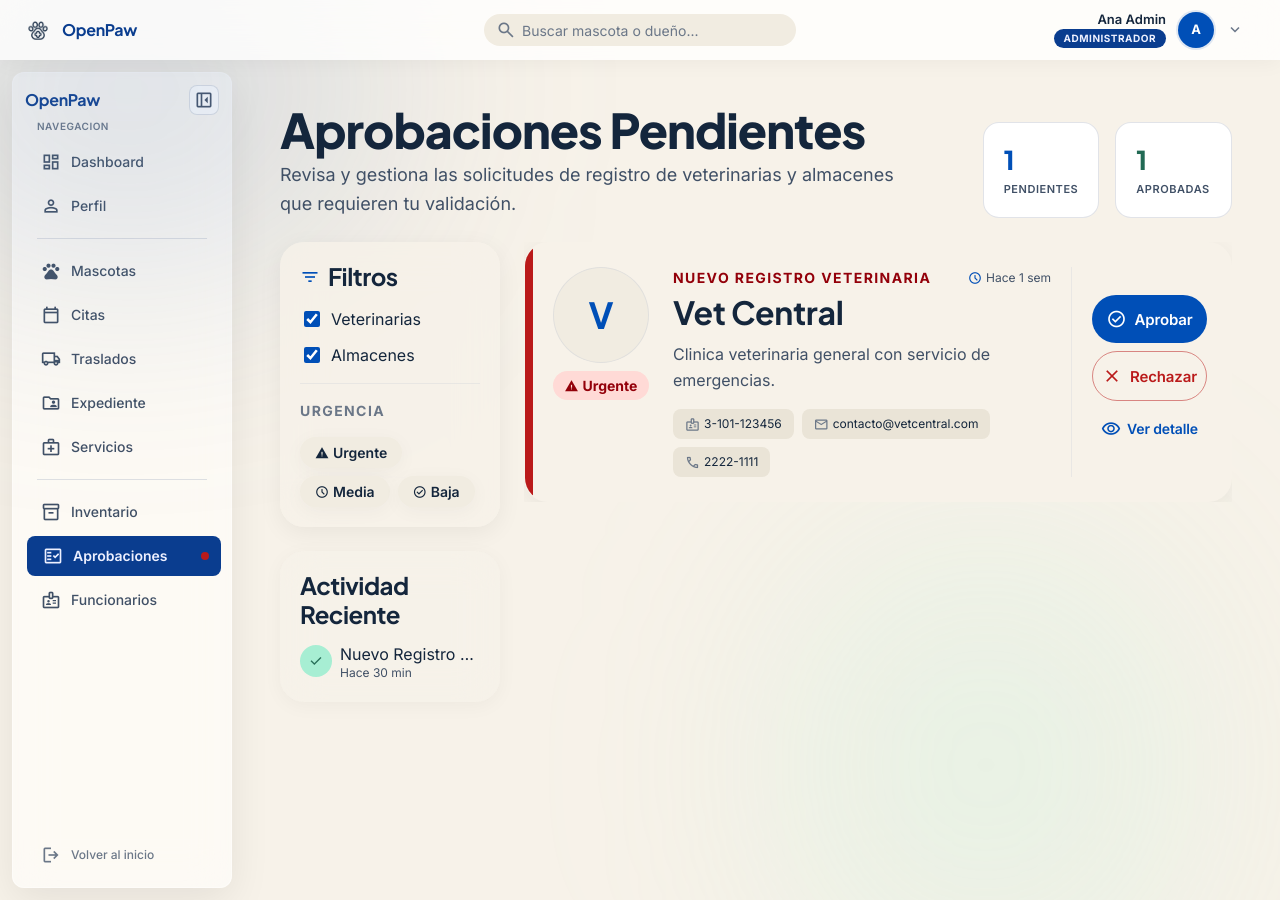
Test case: ApprovalsListPage - feed de cards con urgencia y animacion (T33) › la accion local gana al parseo UTC de fechas recientes del backend (H1)
Check: the heading "Vet Central" is shown, box [673,292,844,332]
Click the button "Aprobar" at [1150, 319], box [1092,295,1207,343]
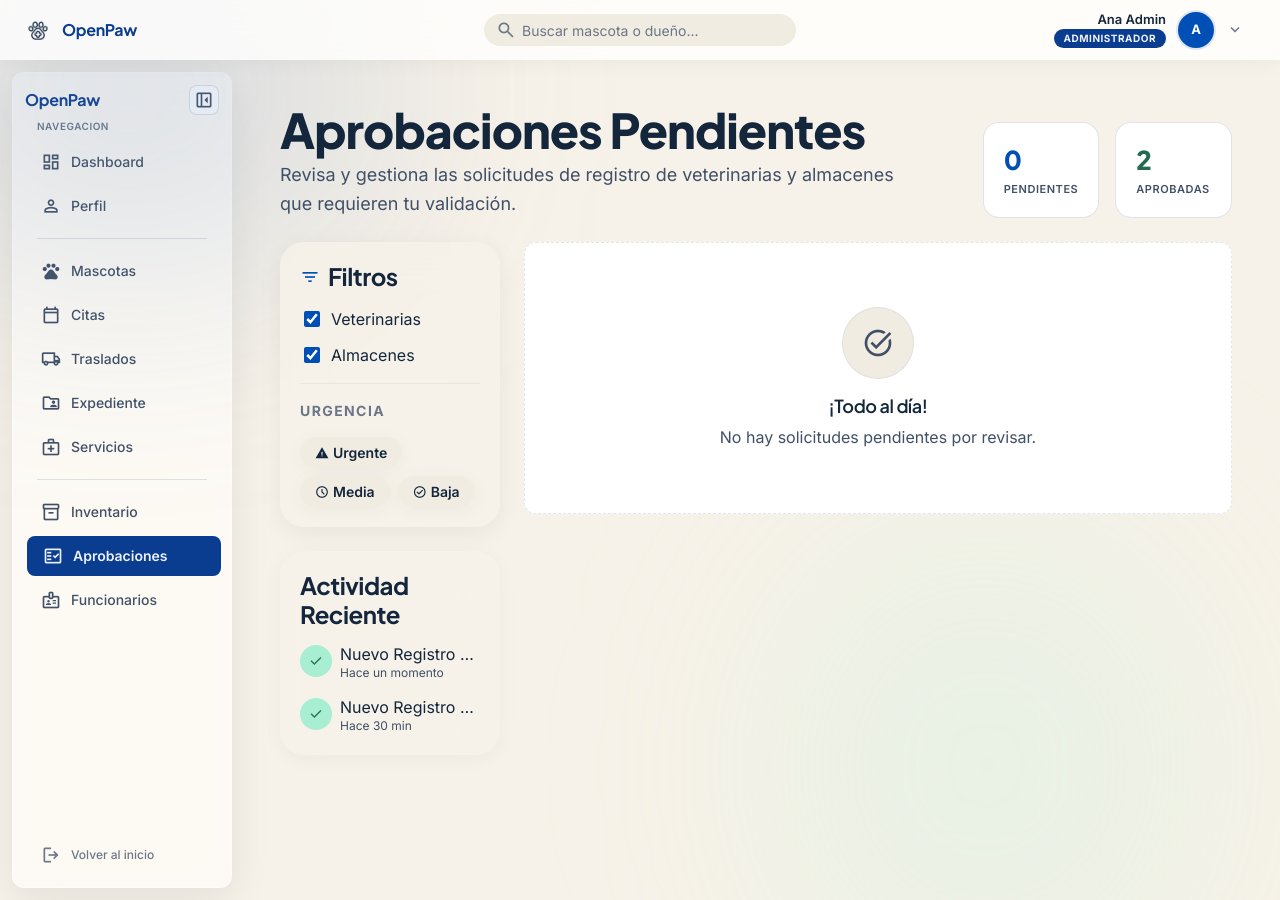
Check: the 1st list item shows "Hace un momento", box [340,665,444,680]
